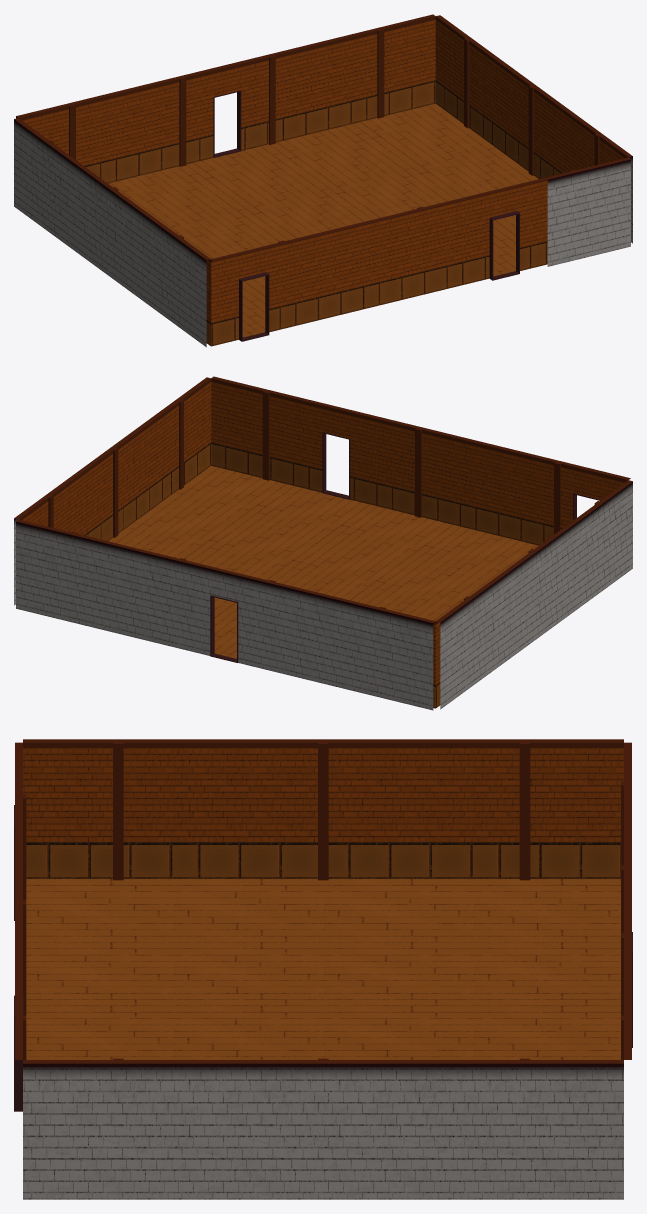
The model's file is hall.fbx.
3 views of the same model, one above another, from view 1: azimuth 30°, elevation 25°; view 2: azimuth 150°, elevation 25°; view 3: azimuth 270°, elevation 25° (orthographic). The views are drawn at different scales.
Parts seen in each view (by area): view 1: hall; view 2: hall; view 3: hall.
Part boxes in pixels (x1=…): hall: x1=14, y1=14, x2=632, y2=347; hall: x1=14, y1=376, x2=632, y2=710; hall: x1=14, y1=739, x2=632, y2=1199.
Bounding box in the file's own units: 1021 × 200 × 824.
